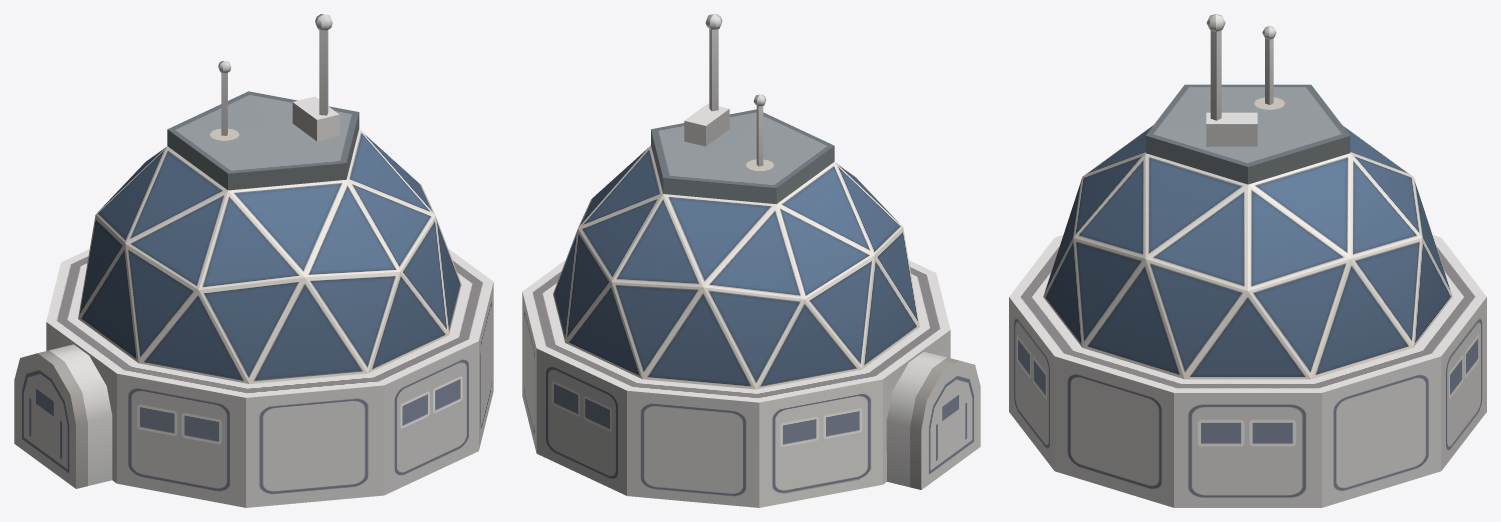
Rendered from XinHaoChuLi.glb.
3 views of the same model, side by side, from view 1: azimuth 30°, elevation 25°; view 2: azimuth 150°, elevation 25°; view 3: azimuth 270°, elevation 25° (orthographic). The views are drawn at different scales.
Visible parts, largest first — view 1: Obj3d66-1715014-41-458; view 2: Obj3d66-1715014-41-458; view 3: Obj3d66-1715014-41-458.
Boxes of the visible parts, bbox=[...] form: Obj3d66-1715014-41-458: bbox=[14, 14, 493, 507]; Obj3d66-1715014-41-458: bbox=[522, 14, 980, 507]; Obj3d66-1715014-41-458: bbox=[1009, 14, 1486, 507].
Bounding box in the file's own units: 45.44 × 42.02 × 43.59.
1 material, 1 textured.
